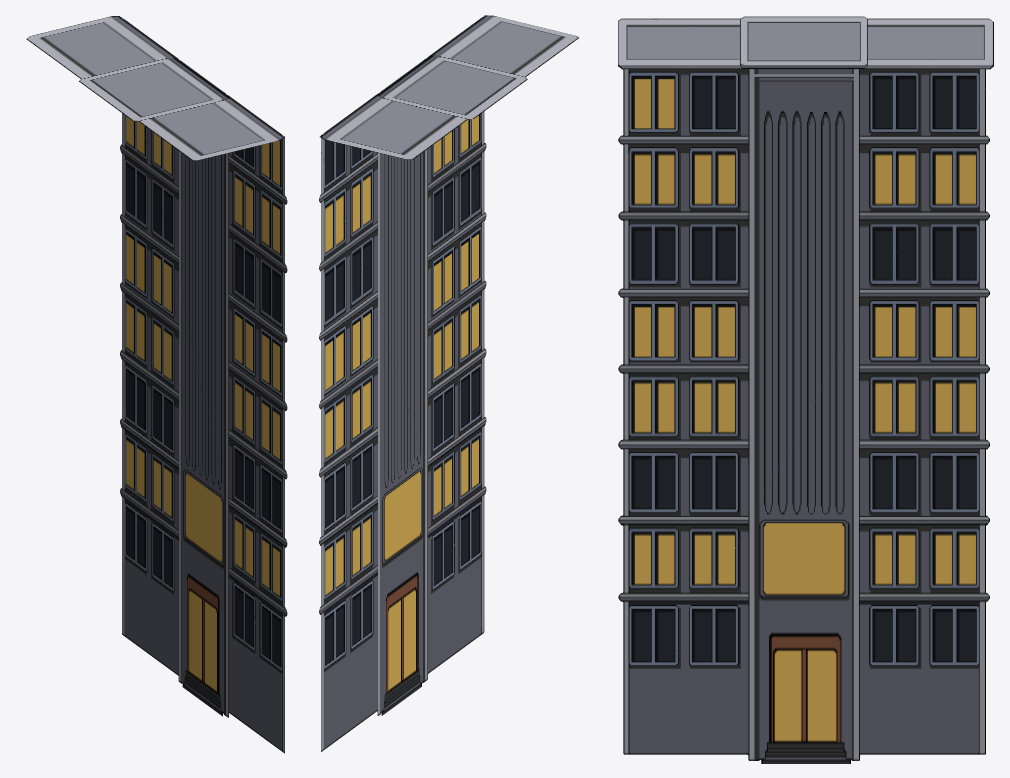
File: kabe2.fbx
3 views of the same model, side by side, from view 1: azimuth 30°, elevation 25°; view 2: azimuth 150°, elevation 25°; view 3: azimuth 270°, elevation 25° (orthographic). The views are drawn at different scales.
Parts seen in each view (by area): view 1: kabe2; view 2: kabe2; view 3: kabe2.
Part boxes in pixels (x1,y1,x2,y2): kabe2: (26,16,287,753); kabe2: (319,15,578,751); kabe2: (618,16,993,763).
Bounding box in the file's own units: 108 × 626 × 309.
1 material, 1 textured.
